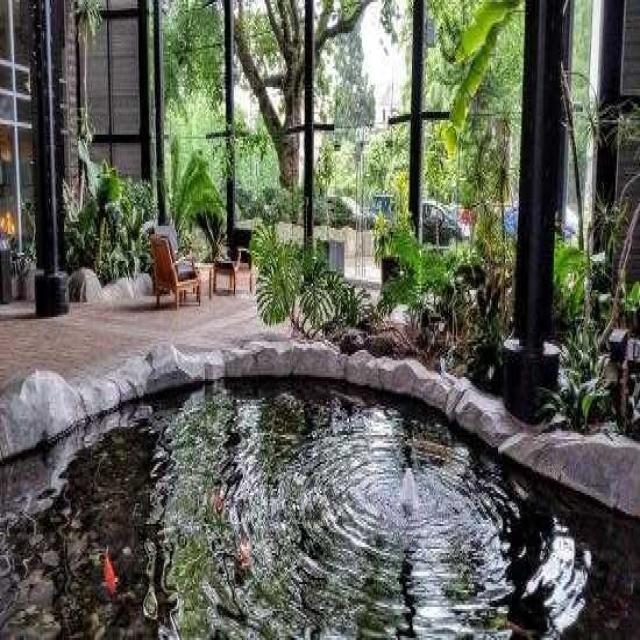Ponds: (1, 338, 640, 637)
